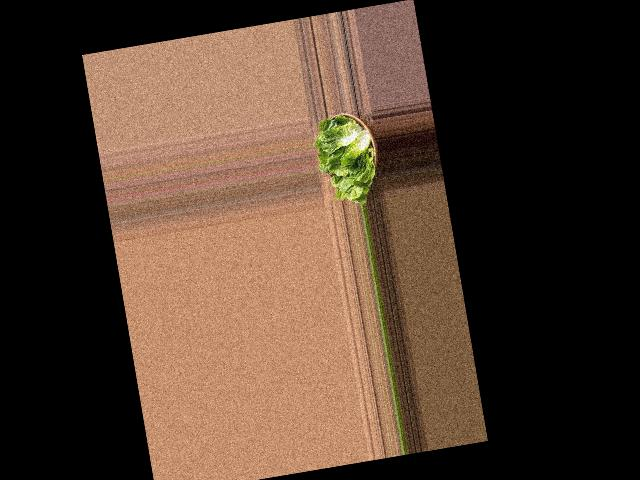lettuce: (311, 105, 385, 208)
